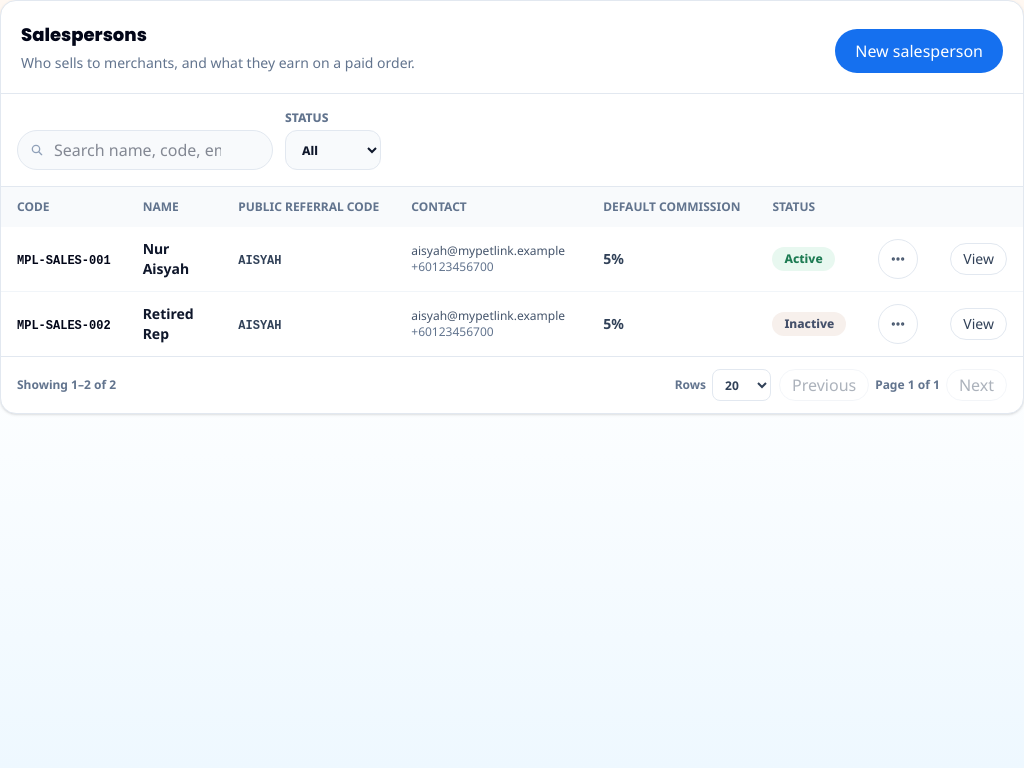
Salesperson activation › explains that deactivation does not disturb commission already earned
The width and height of the screenshot is (1024, 768).
Click the button named "Actions for MPL-SALES-001".
click(898, 259)  # box [878,239,918,279]
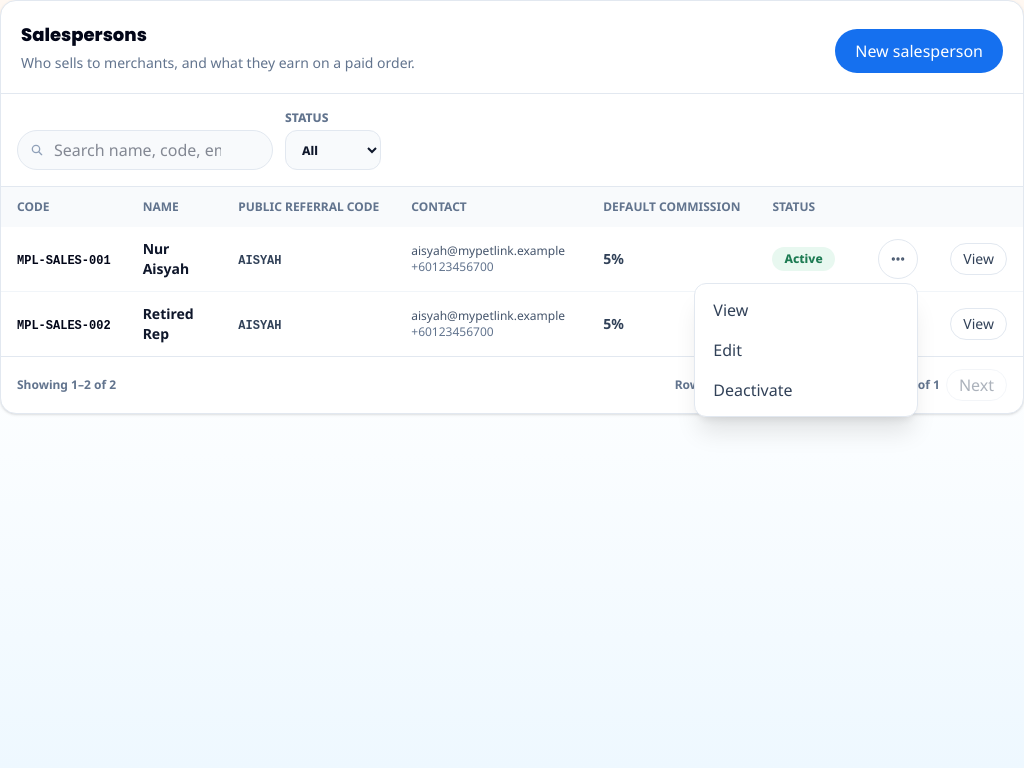
Click the menu item "Deactivate".
click(806, 390)  # box [701,370,911,410]
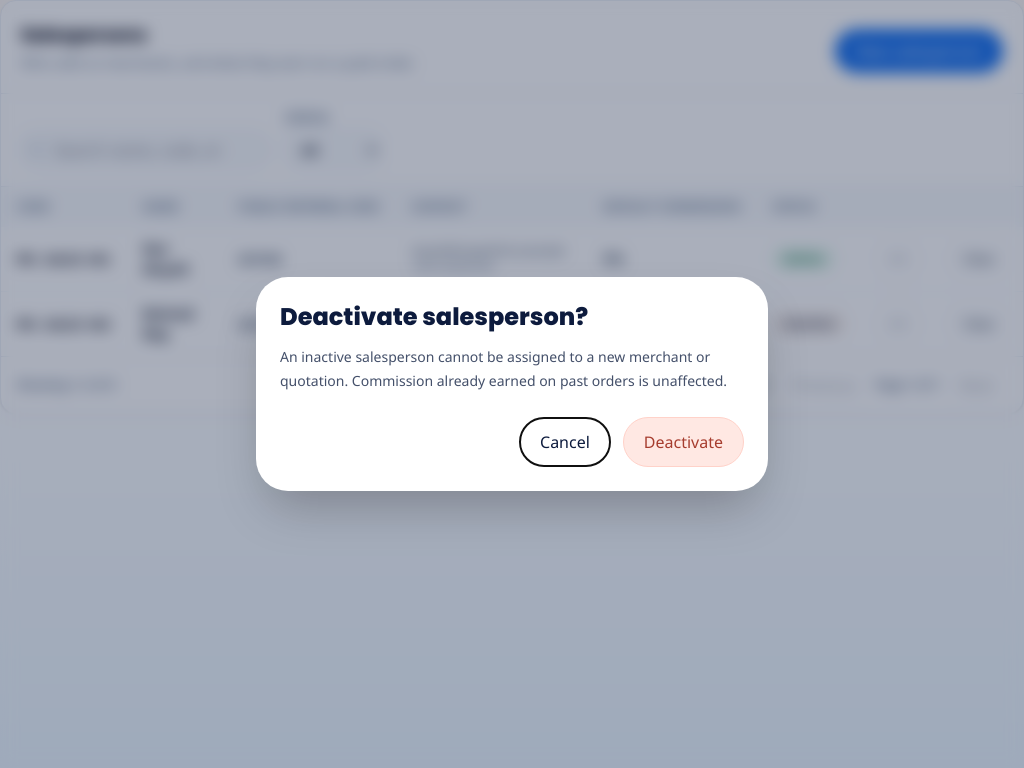
Expected: the text "Commission already earned on past orders is unaffected" is shown, [280,347,727,390]
